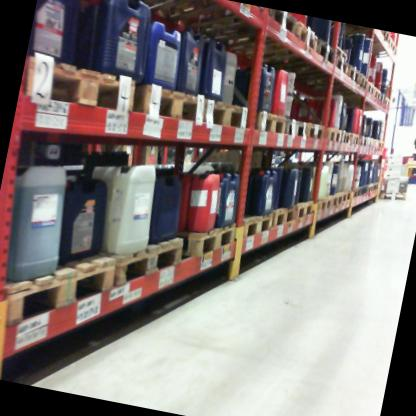pallet: (0, 234, 118, 354), (17, 39, 143, 136), (100, 222, 185, 303), (198, 0, 301, 62), (128, 70, 211, 145), (139, 0, 263, 48), (184, 216, 240, 270), (296, 34, 350, 81), (200, 95, 249, 144), (267, 198, 300, 240), (236, 207, 273, 244), (290, 20, 323, 60), (250, 110, 287, 141), (282, 114, 309, 144), (289, 195, 314, 226), (310, 191, 335, 220), (377, 184, 409, 204), (322, 124, 346, 150), (301, 121, 327, 143), (330, 56, 351, 78), (356, 69, 372, 94), (344, 62, 360, 83), (338, 186, 354, 207), (346, 128, 361, 149), (332, 189, 345, 209), (339, 132, 351, 151), (347, 185, 360, 201), (376, 91, 387, 109), (365, 81, 376, 98), (373, 86, 383, 103), (358, 182, 367, 198), (383, 95, 392, 109), (372, 179, 381, 192), (366, 182, 374, 196)
